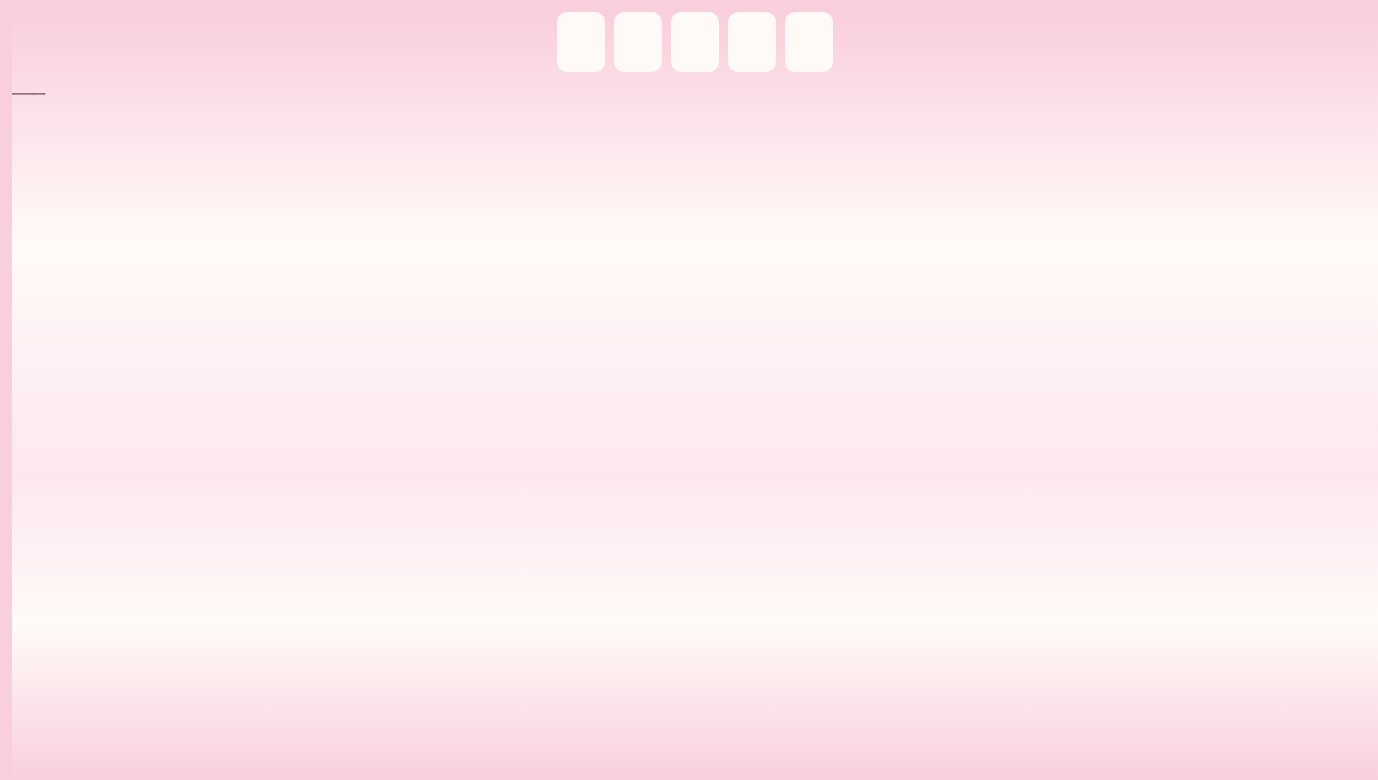
Scenario: LetterInputs › replaces a letter when typing over a filled box
Click the field named "Letter 1 of 5".
click(581, 42)  # box [557, 12, 605, 72]
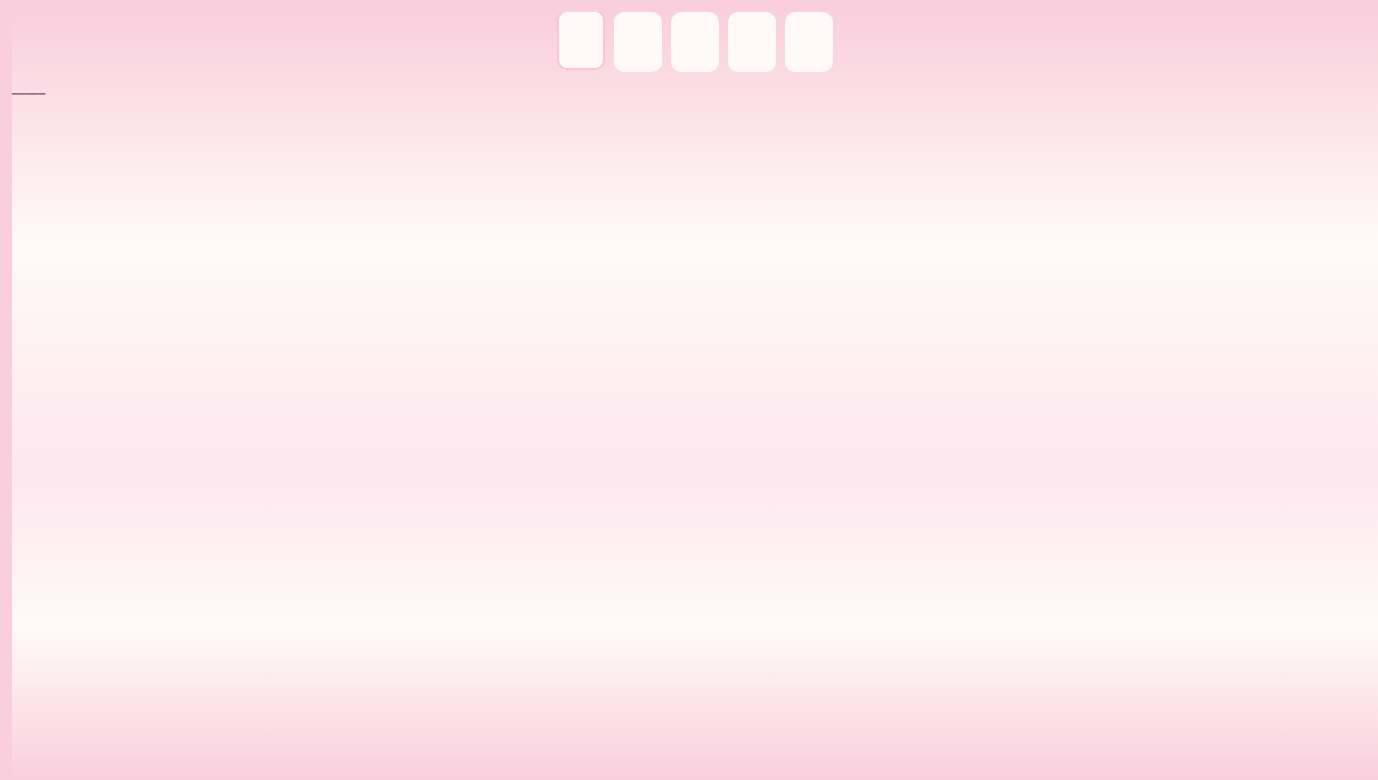
Type keys "abc"
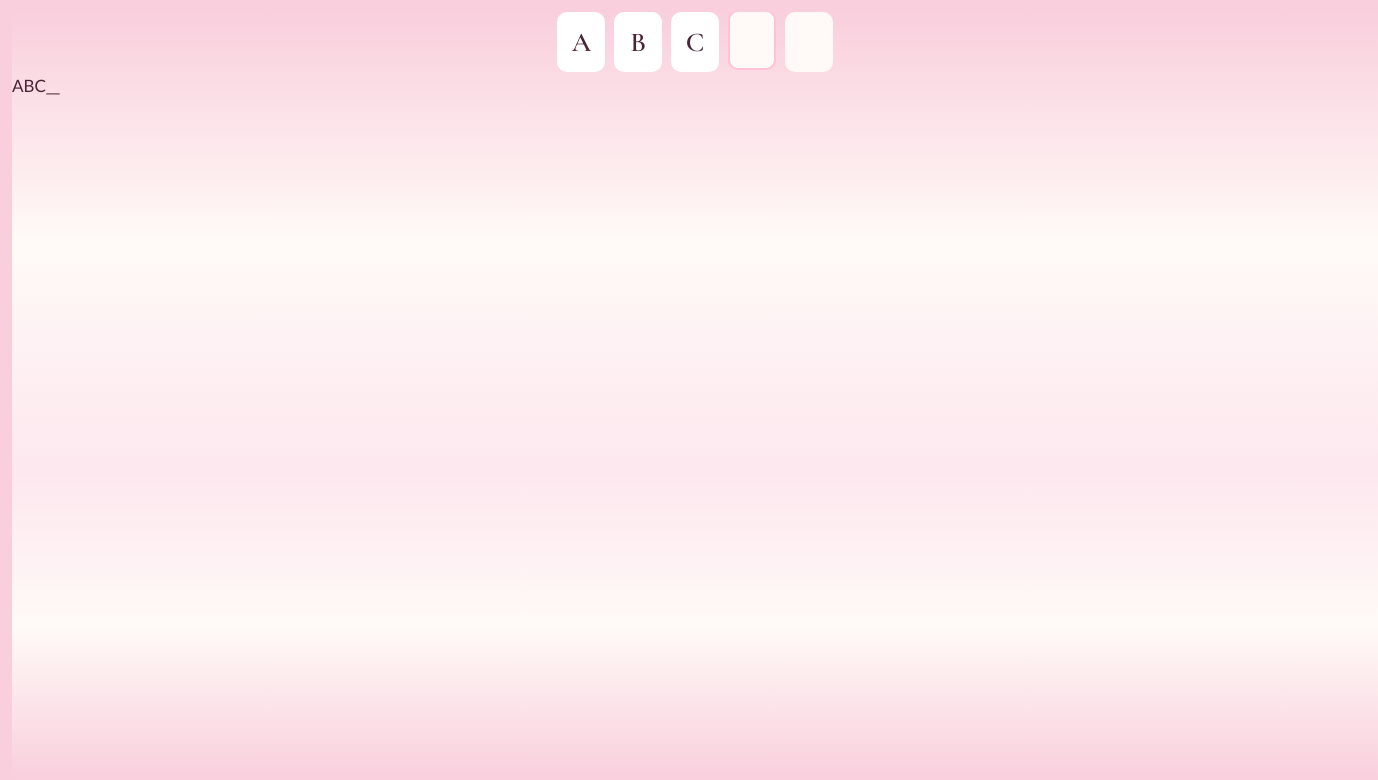
Click the field named "Letter 2 of 5".
click(638, 42)  # box [614, 12, 662, 72]
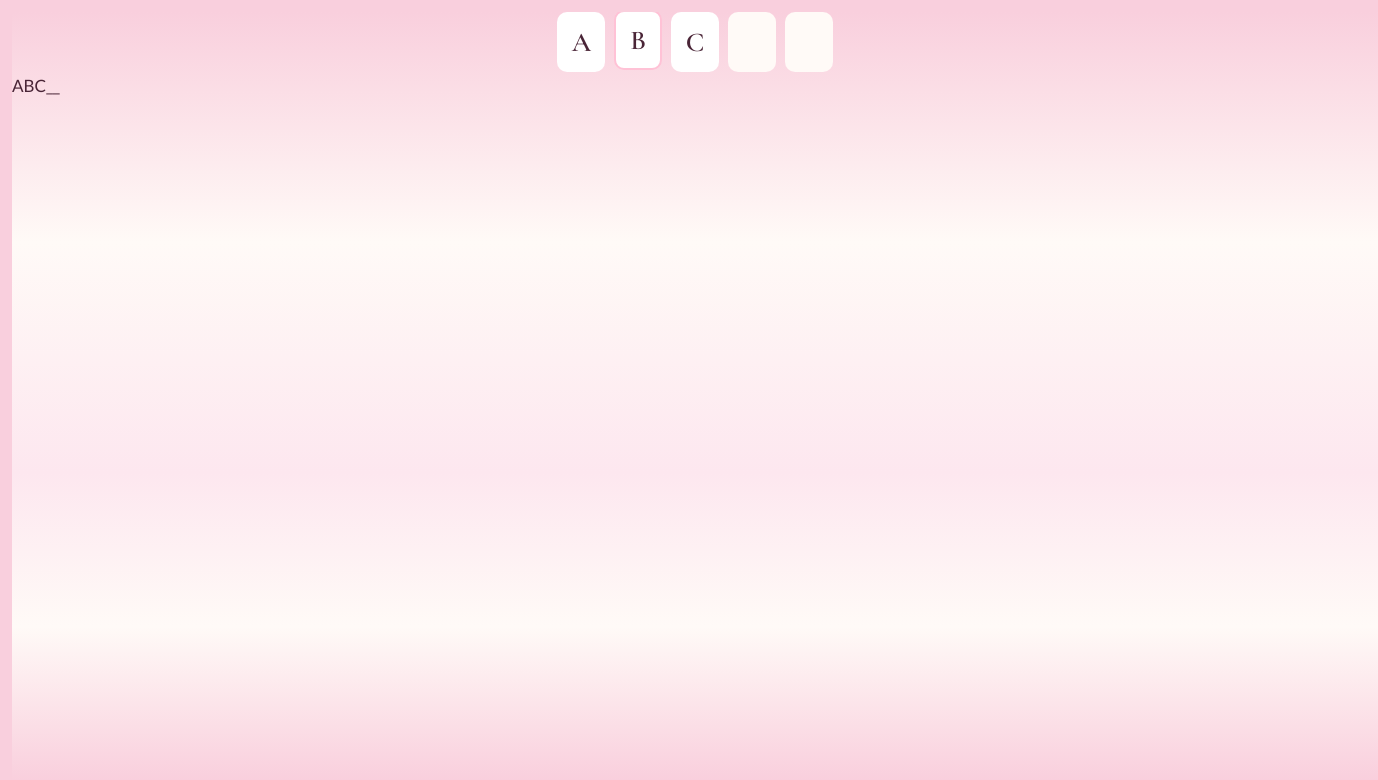
Type keys "x"
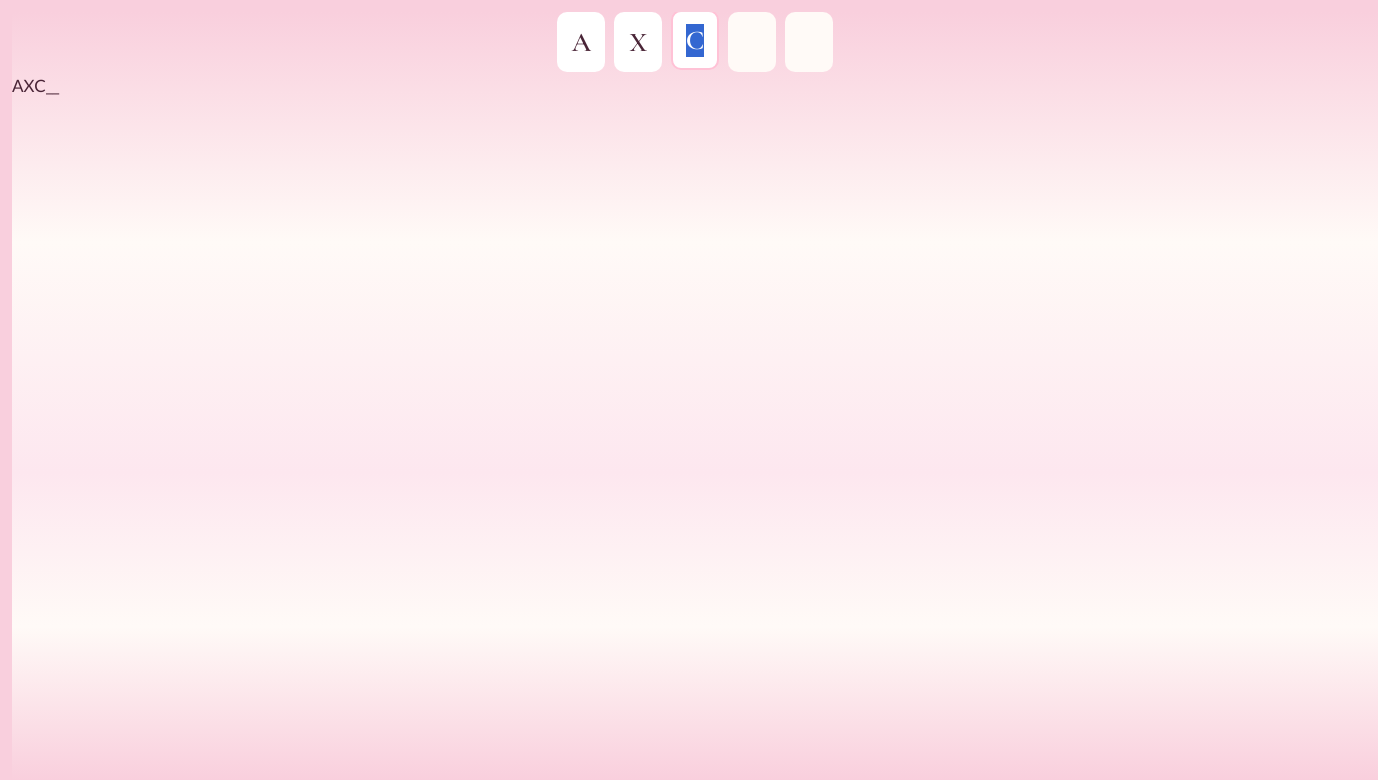
Expected: the text "AXC__" is shown, [12, 75, 59, 96]
